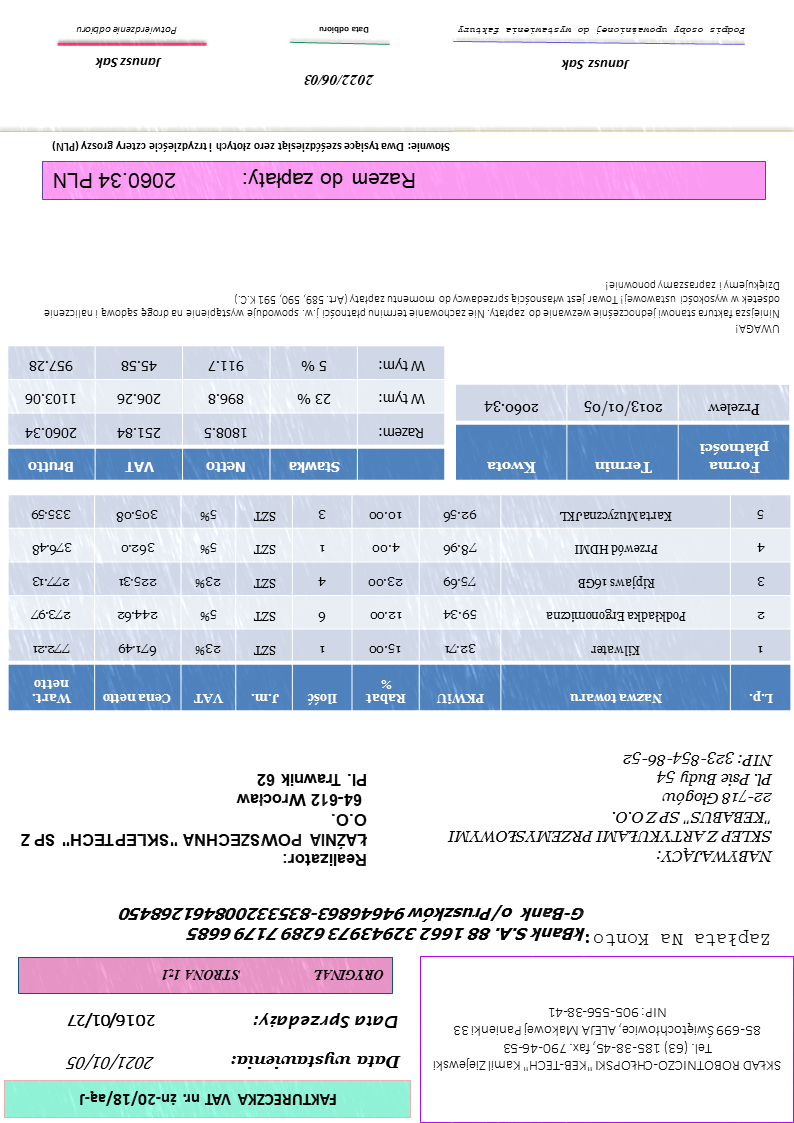Table: (7, 492, 793, 714), (5, 343, 446, 482), (456, 384, 791, 483)
TextBox: (41, 278, 782, 337), (444, 747, 775, 867), (15, 766, 371, 868), (429, 999, 784, 1077), (115, 904, 586, 942), (52, 168, 418, 192), (48, 138, 453, 155), (77, 1088, 341, 1112), (231, 1046, 403, 1073), (158, 964, 386, 984), (456, 23, 750, 36), (583, 929, 773, 949), (251, 1009, 403, 1032), (64, 1050, 156, 1074), (66, 1011, 158, 1032), (559, 54, 634, 75), (73, 24, 180, 36), (301, 72, 377, 88), (93, 55, 165, 70), (315, 23, 373, 36)
